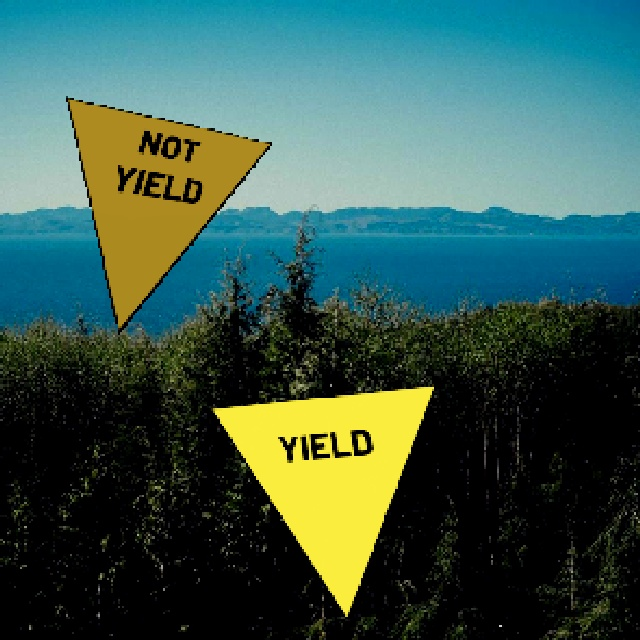NOT_YIELD: (64, 95, 271, 332)
YIELD: (208, 383, 436, 620)
